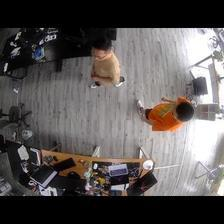normal: (136, 96, 193, 131), (87, 37, 122, 88)
